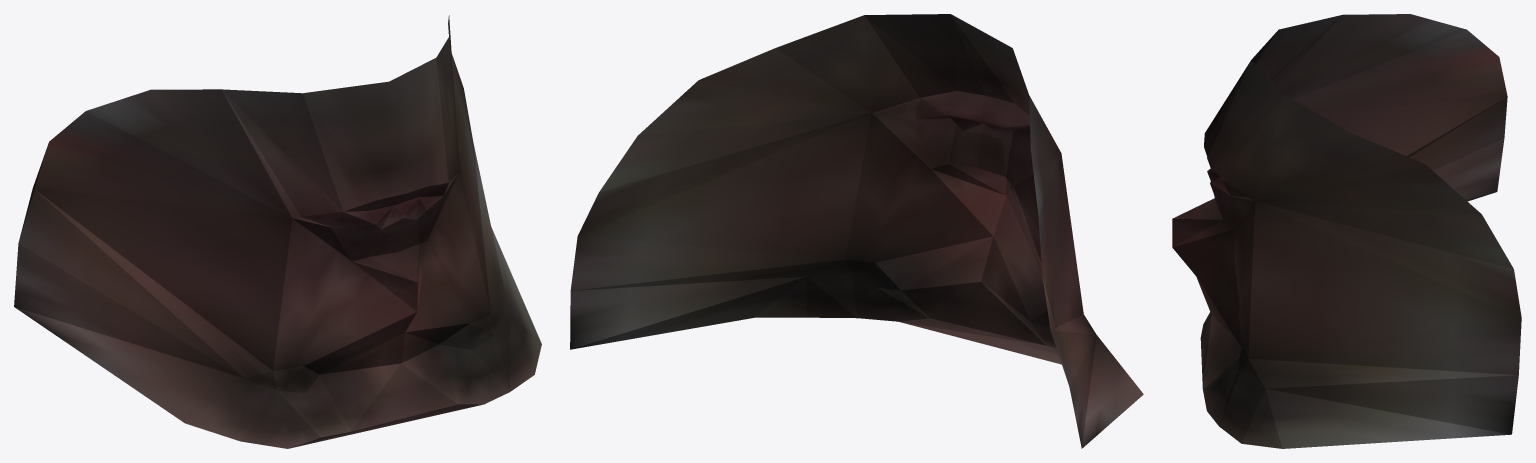
Rendered from fake_4206.obj.
3 renders of one model, left to right at view 1: azimuth 30°, elevation 25°; view 2: azimuth 150°, elevation 25°; view 3: azimuth 270°, elevation 25°, orthographic. The views are drawn at different scales.
Bounding box in the file's own units: 118 × 77 × 77.01.
